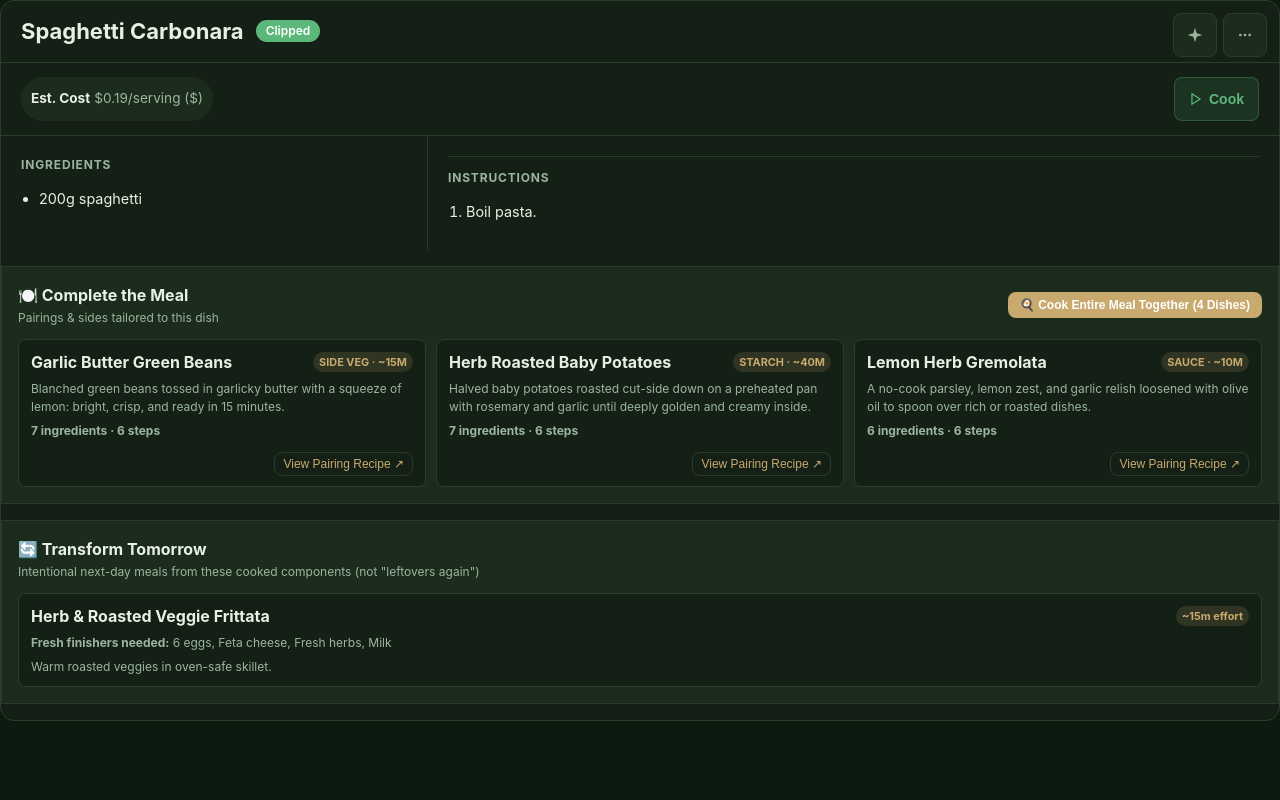
RecipeCard — edit and notes actions › disables both actions for a recipe that is not stored yet
The width and height of the screenshot is (1280, 800).
Click the button named "More recipe options": (1245, 35) [1223,13,1267,57]
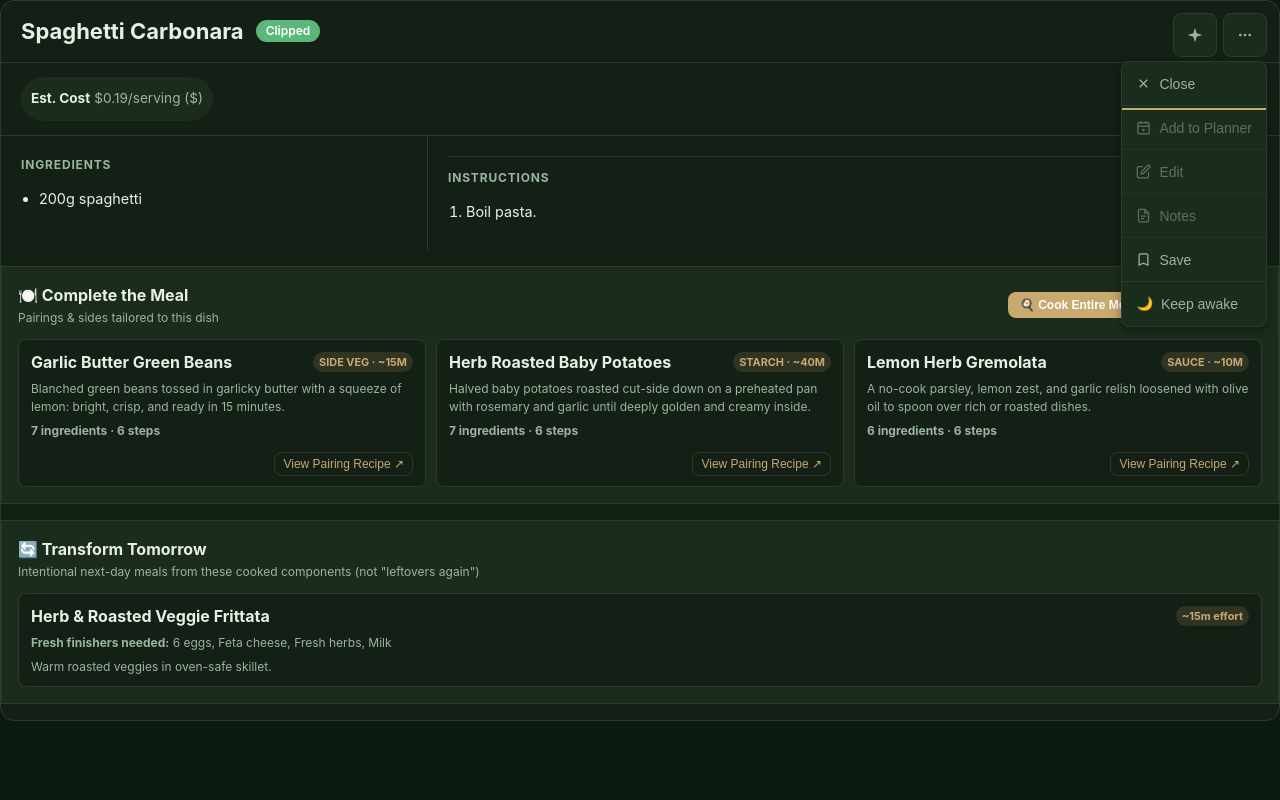
Expected: the menu item "Edit" is disabled, [1122,150,1266,194]
Expected: the menu item "Notes" is disabled, [1122,194,1266,238]
